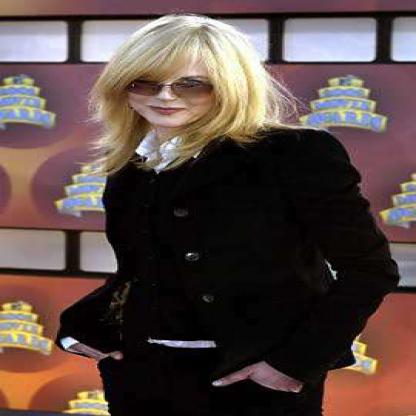face: (122, 41, 231, 129)
